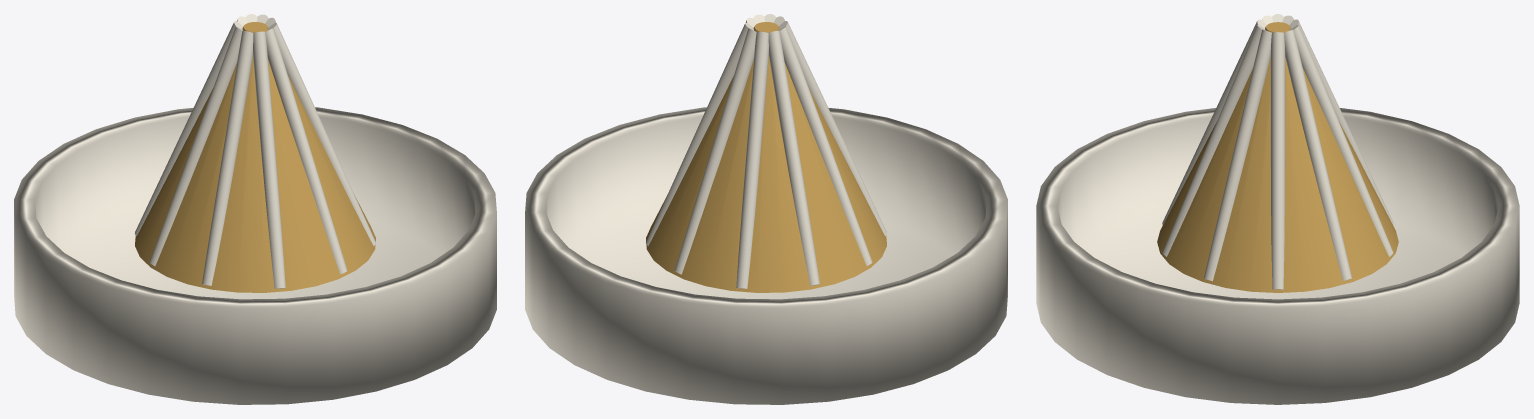
The model's file is wp-presse-agrumes.glb.
3 views of the same model, side by side, from view 1: azimuth 30°, elevation 25°; view 2: azimuth 150°, elevation 25°; view 3: azimuth 270°, elevation 25° (orthographic).
Parts seen in each view (by area): view 1: wp-presse-agrumes; view 2: wp-presse-agrumes; view 3: wp-presse-agrumes.
Boxes of the visible parts, bbox=[...] form: wp-presse-agrumes: bbox=[14, 14, 496, 404]; wp-presse-agrumes: bbox=[525, 14, 1007, 404]; wp-presse-agrumes: bbox=[1036, 14, 1519, 404].
Size of the model in its own units: 0.18 by 0.1193 by 0.18.
